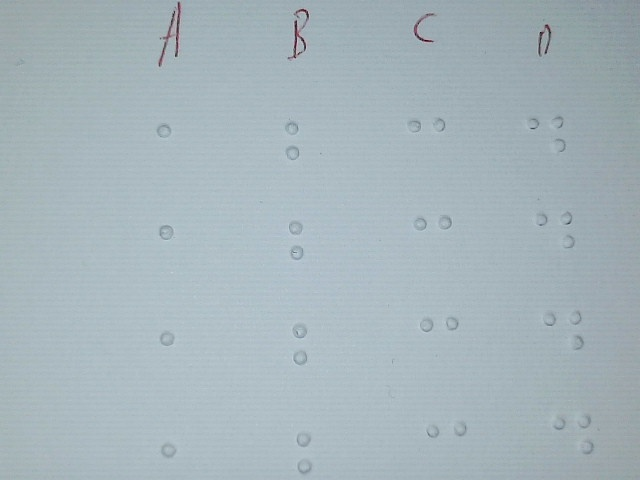A: (148, 114, 206, 199), (150, 215, 208, 300), (151, 320, 209, 405)
B: (276, 113, 336, 196), (278, 210, 338, 293), (282, 313, 342, 396)
C: (401, 107, 455, 188), (407, 205, 461, 286), (412, 306, 466, 387)
